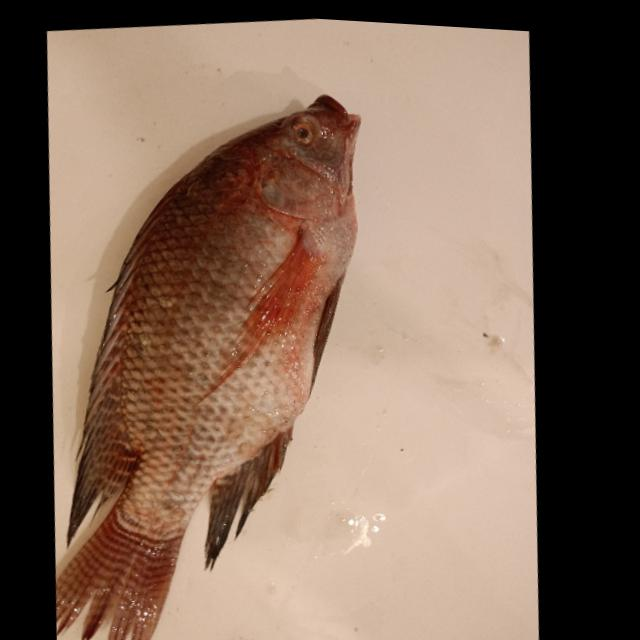Tilapia: (0, 75, 419, 640)
